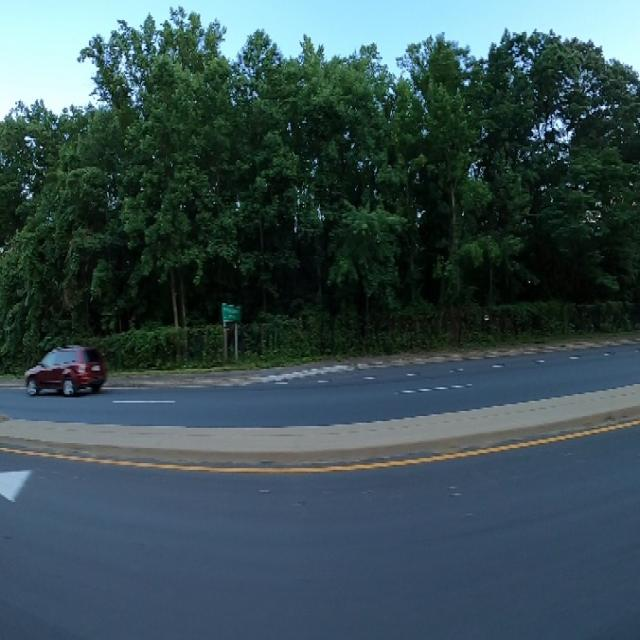cars: (20, 336, 108, 401)
